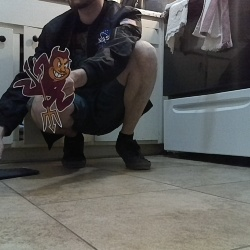sparky: (12, 45, 75, 134)
